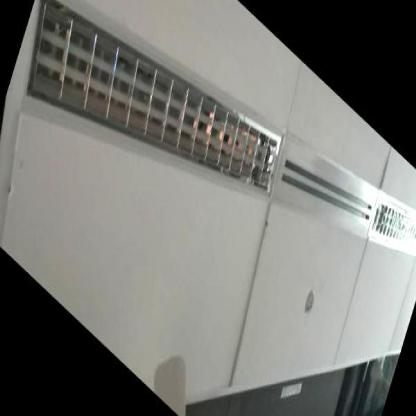light_off: (9, 0, 291, 305)
